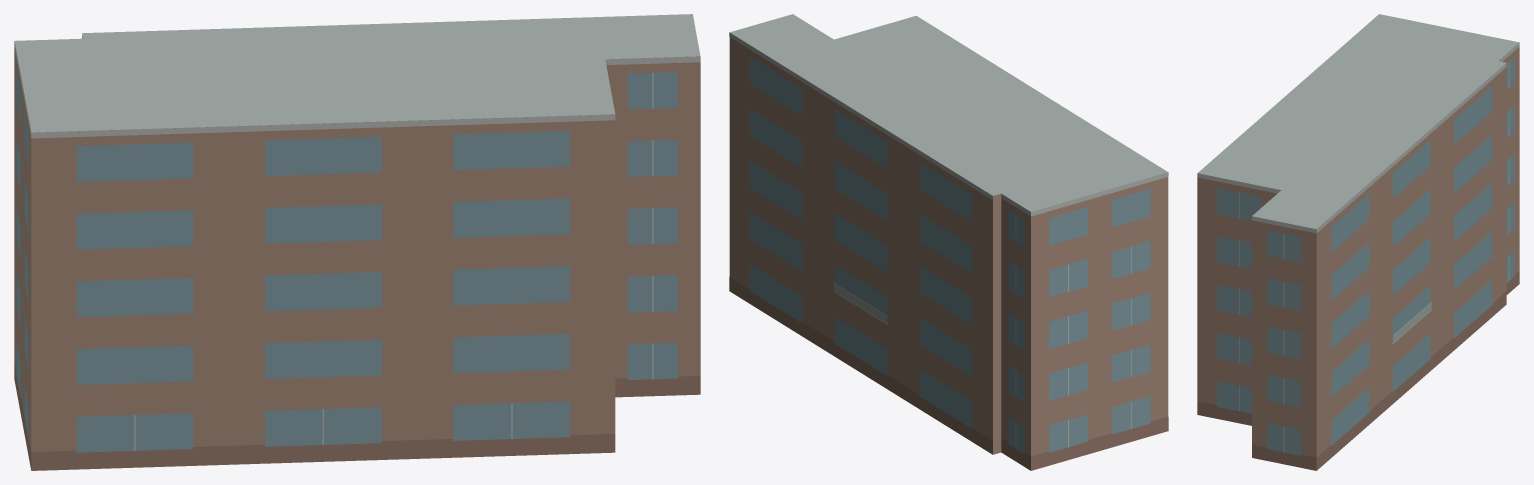
Rendered from survey-upis-32984894.glb.
3 views of the same model, side by side, from view 1: azimuth 30°, elevation 25°; view 2: azimuth 150°, elevation 25°; view 3: azimuth 270°, elevation 25° (orthographic). The views are drawn at different scales.
Visible parts, largest first — view 1: survey-upis-32984894.tmp; view 2: survey-upis-32984894.tmp; view 3: survey-upis-32984894.tmp.
Boxes of the visible parts, box(x1,y1,x2,y2) form: survey-upis-32984894.tmp: box(14, 14, 700, 470); survey-upis-32984894.tmp: box(729, 14, 1168, 470); survey-upis-32984894.tmp: box(1197, 14, 1519, 470).
Size of the model in its own units: 26.76 by 14 by 16.93.
